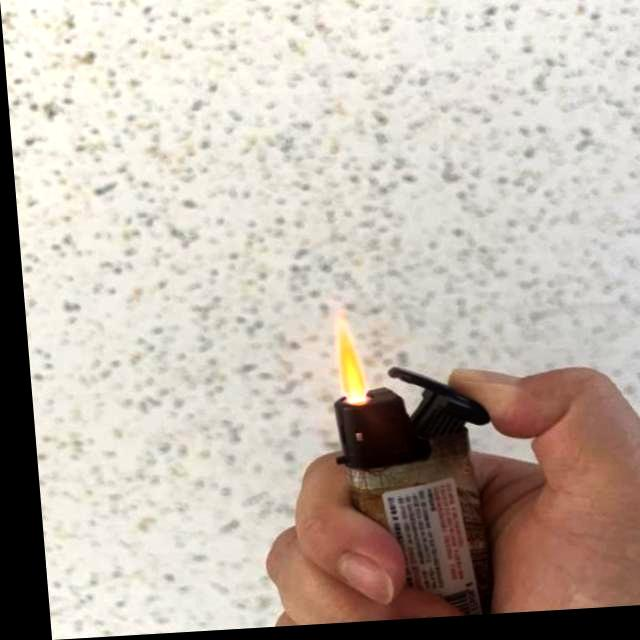fire: (326, 321, 362, 402)
